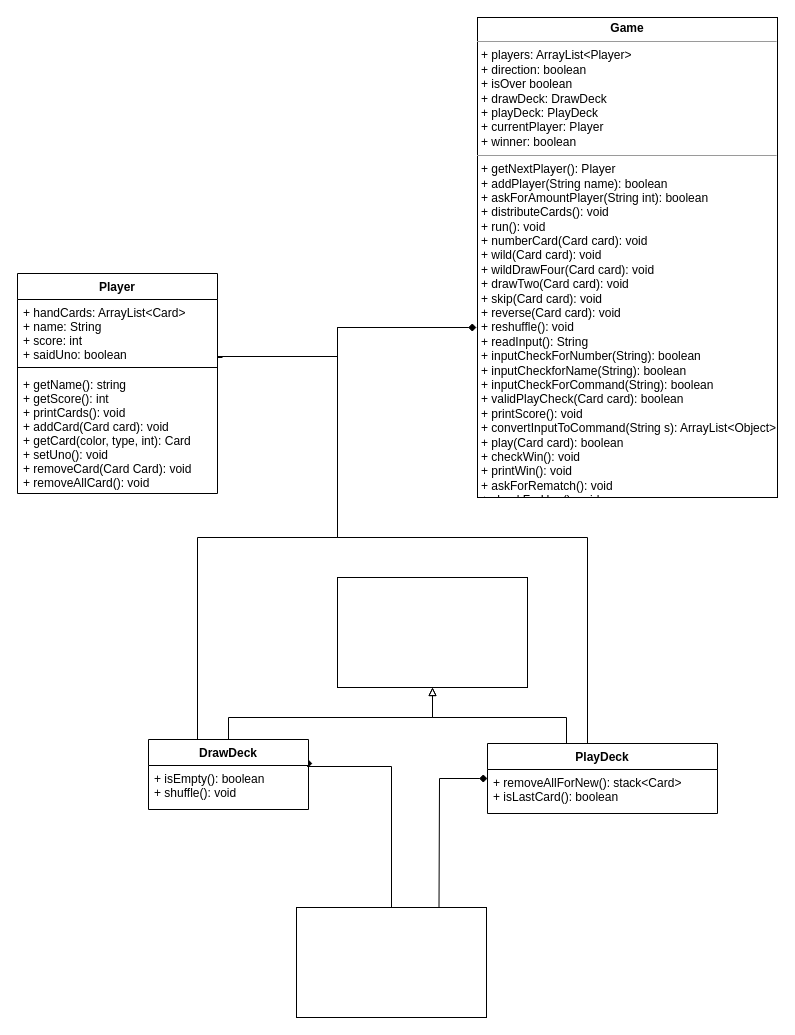
Some shapes in this 795 by 1035 pixel diagram are drawn without their labels. Each missing label, with the centre of its shape:
"<<Abstract>> Deck + card: Stack<Card> + pop(): Card + push(Card card): void" goes at [432,632].
"Card + color: enum + type: enum + points: int + getName(): String" goes at [391,962].
